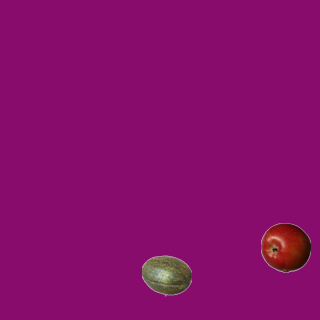Apple Braeburn: (260, 222, 310, 272)
Melon Piel de Sapo: (141, 250, 191, 300)
